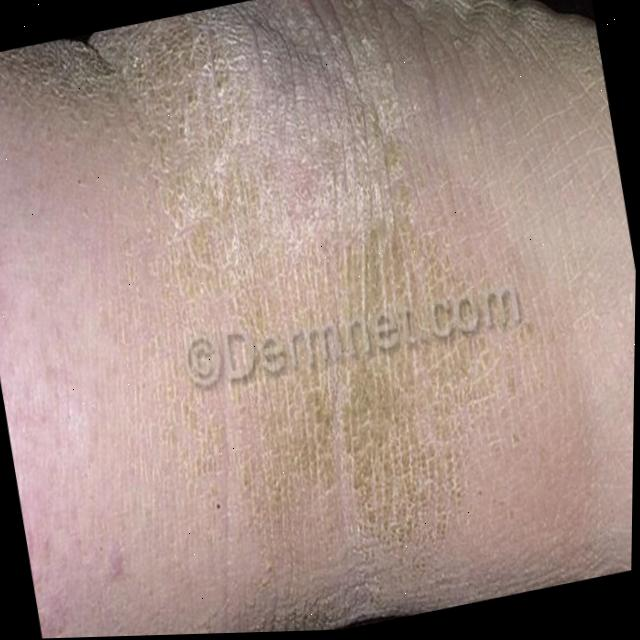Eczema: (43, 0, 525, 581)
